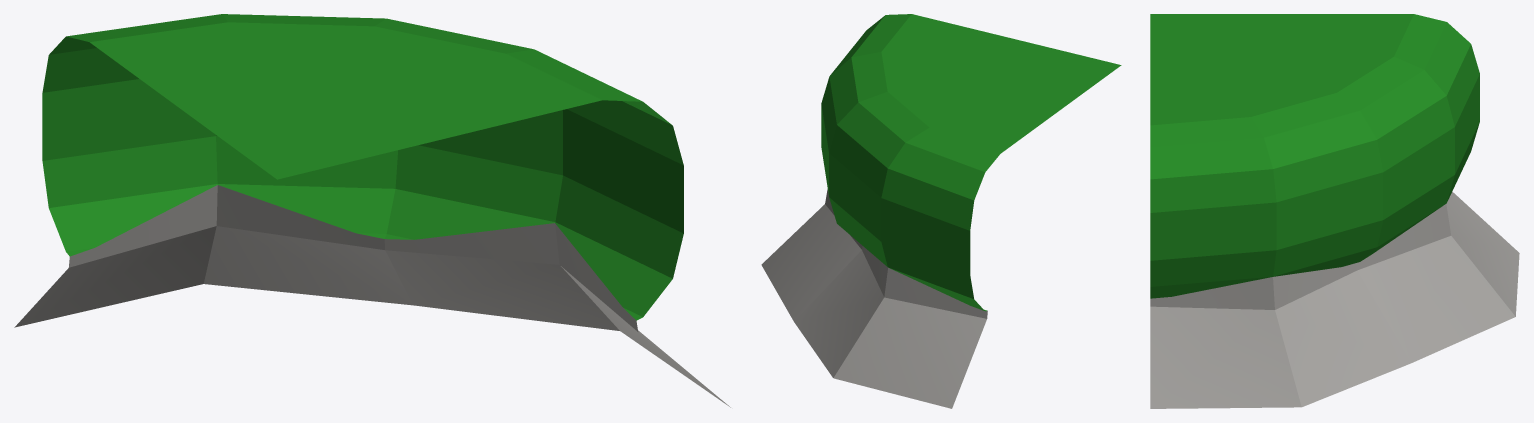
File: Terrain_Cliff_1_Tall_Corner_Outer_1x1.obj
The picture shows the model from 3 angles, left to right: view 1: azimuth 30°, elevation 25°; view 2: azimuth 150°, elevation 25°; view 3: azimuth 270°, elevation 25°; orthographic projection. The views are drawn at different scales.
Parts seen in each view (by area): view 1: Grass, Rock; view 2: Grass, Rock; view 3: Grass, Rock.
Part boxes in pixels (x1,y1,x2,y2): Grass: (42,14,683,320); Rock: (14,185,730,407); Grass: (821,14,1121,311); Rock: (761,189,987,408); Grass: (1150,14,1479,298); Rock: (1150,192,1519,408).
Bounding box in the file's own units: 1.4 × 1 × 1.4.
